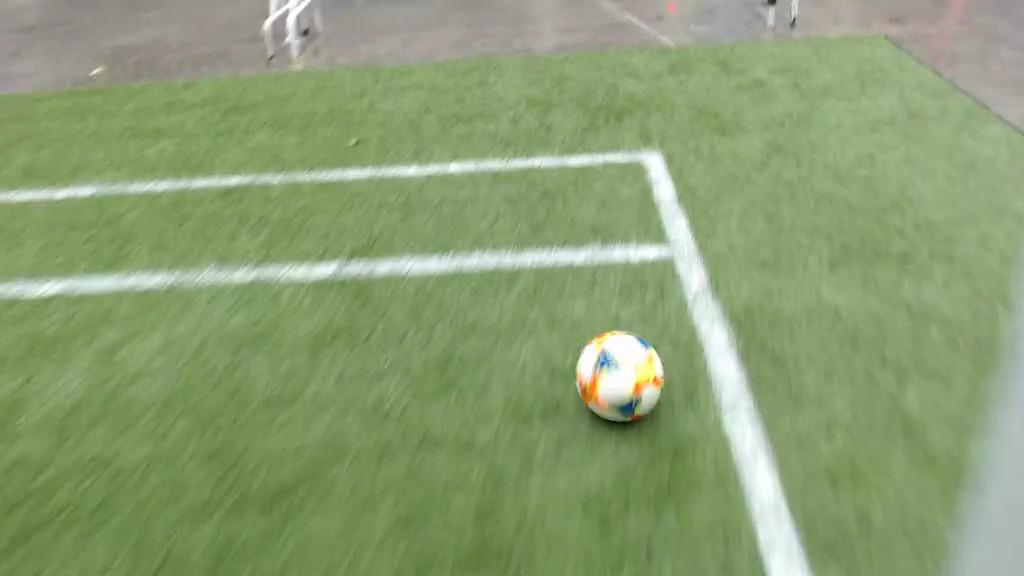ball: (574, 332, 666, 423)
